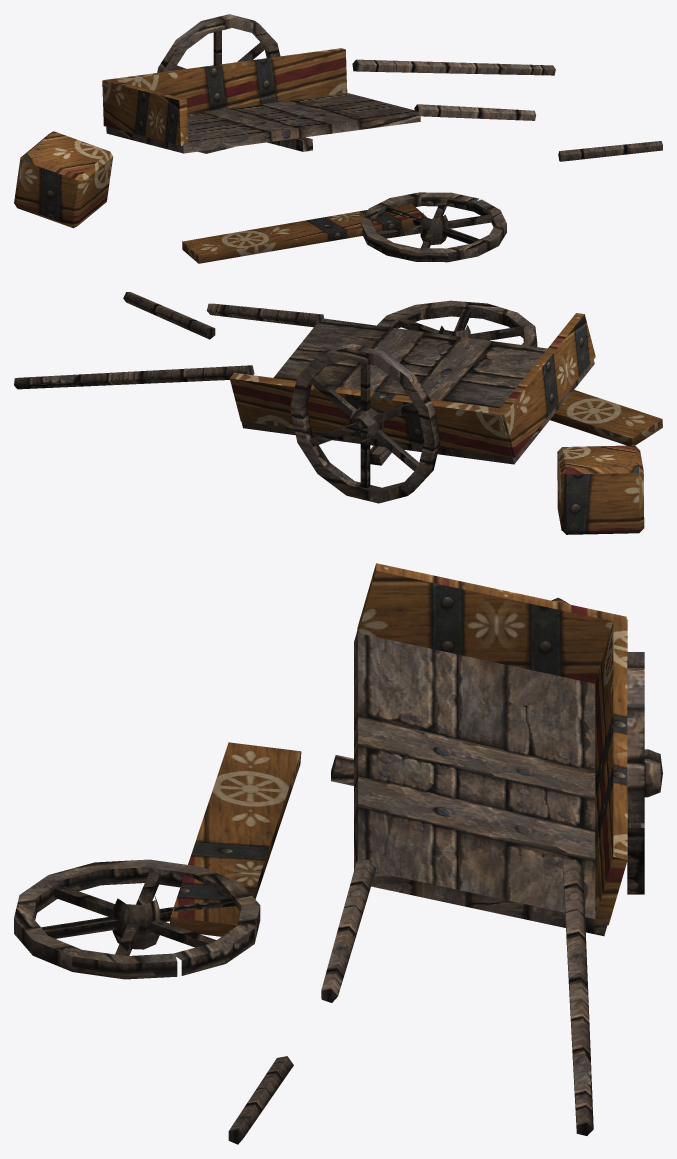
Rendered from cart_broken.glb.
3 renders of one model, top to bottom at view 1: azimuth 30°, elevation 25°; view 2: azimuth 150°, elevation 25°; view 3: azimuth 270°, elevation 25°, orthographic. The views are drawn at different scales.
Visible parts, largest first — view 1: cart_broken; view 2: cart_broken; view 3: cart_broken.
Part boxes in pixels (bbox=[...]): cart_broken: bbox=[14, 14, 662, 263]; cart_broken: bbox=[14, 292, 662, 534]; cart_broken: bbox=[14, 563, 662, 1144].
Bounding box in the file's own units: 4.39 × 1.03 × 2.64.
Materials: 2 (2 with a texture image).
